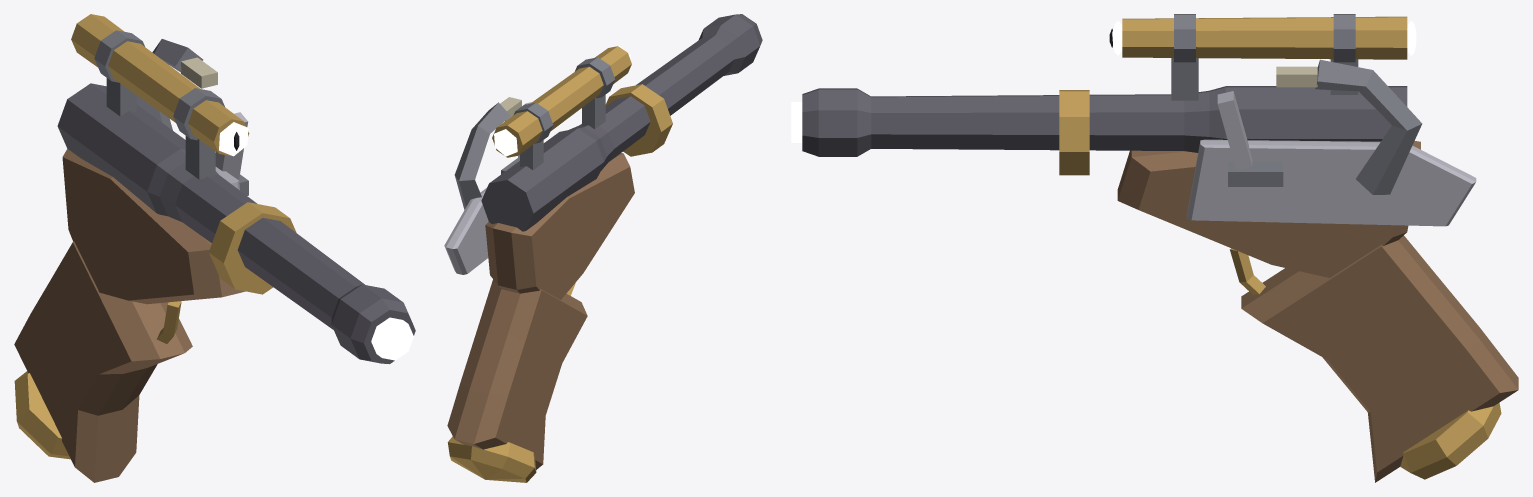
Rendered from gun-pocket-piece.glb.
3 views of the same model, side by side, from view 1: azimuth 30°, elevation 25°; view 2: azimuth 150°, elevation 25°; view 3: azimuth 270°, elevation 25° (orthographic). The views are drawn at different scales.
Parts seen in each view (by area): view 1: gun-pocket-piece, blink_lens; view 2: gun-pocket-piece; view 3: gun-pocket-piece.
Boxes of the visible parts, bbox=[...] form: gun-pocket-piece: bbox=[14, 14, 415, 482]; blink_lens: bbox=[219, 122, 248, 156]; gun-pocket-piece: bbox=[444, 14, 762, 482]; gun-pocket-piece: bbox=[791, 14, 1518, 482].
Size of the model in its own units: 0.106 by 0.3698 by 0.5277.
